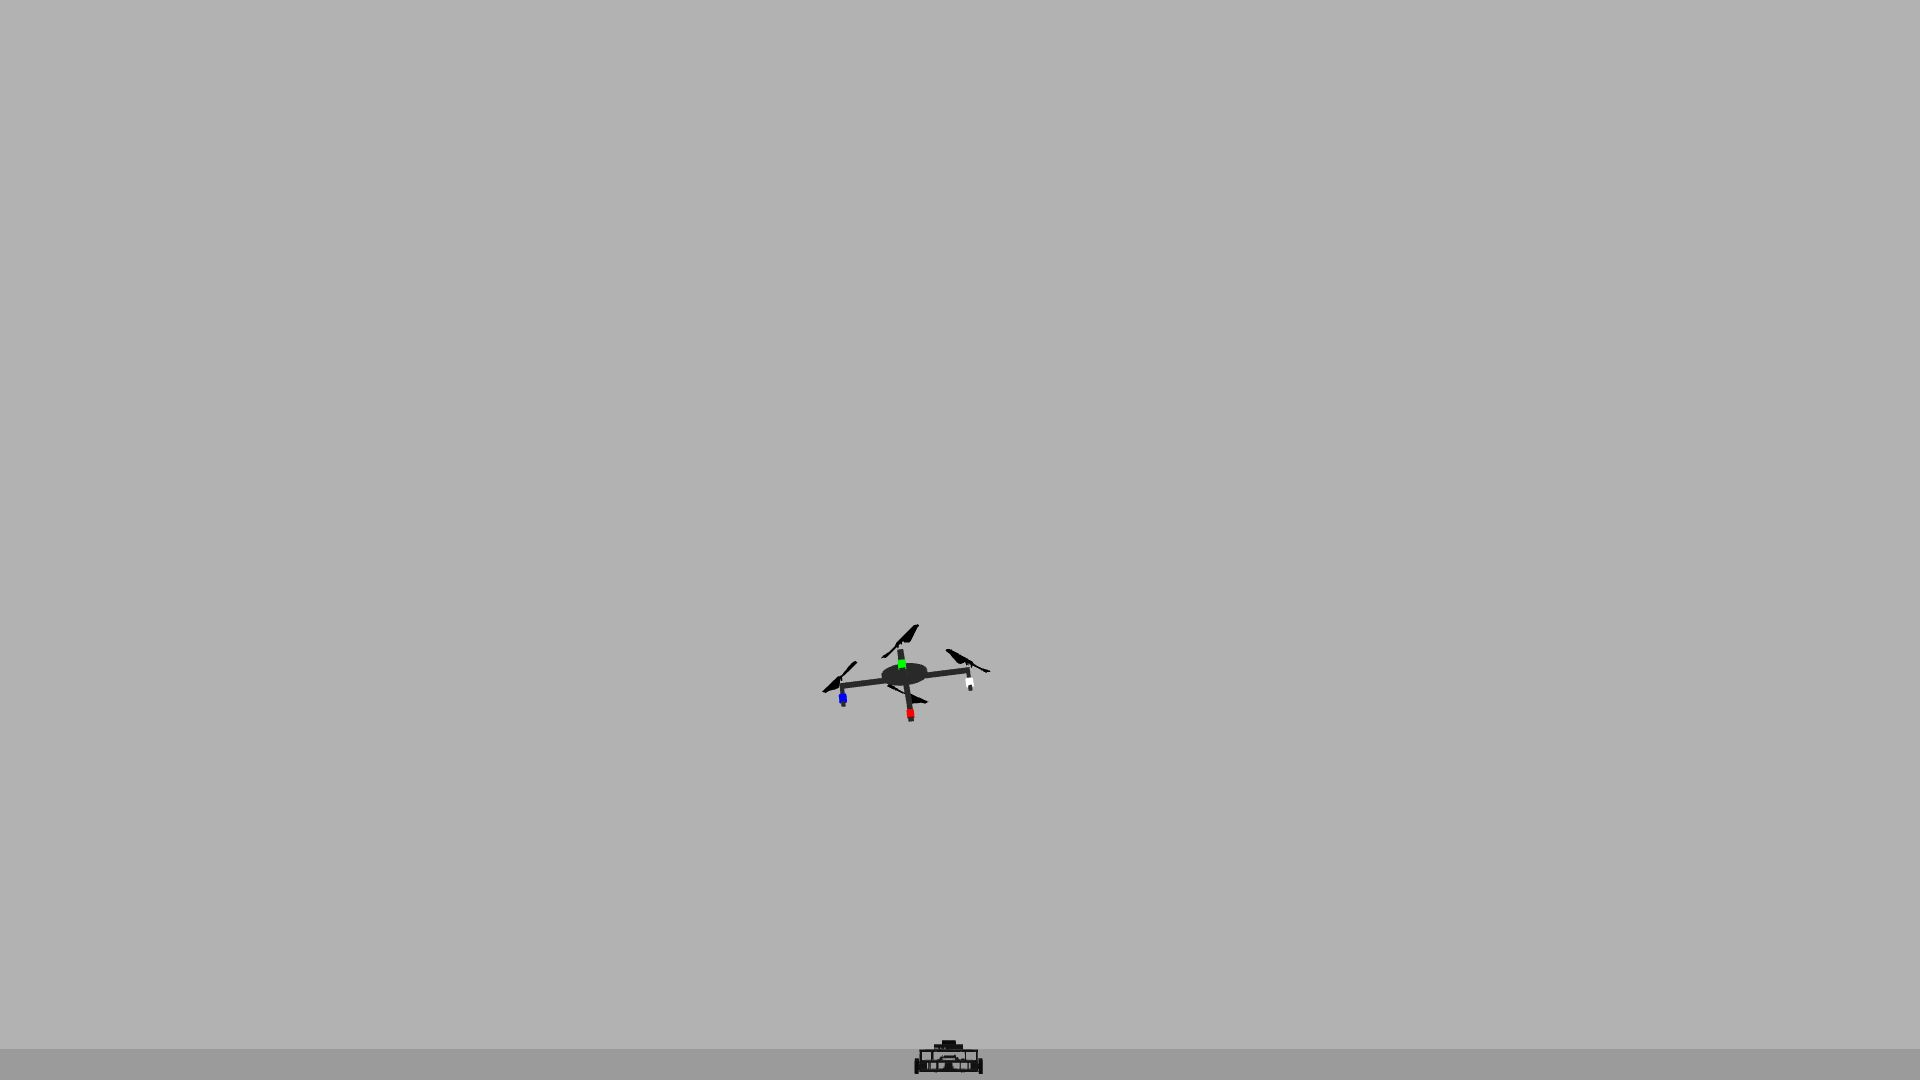drone: (814, 611, 998, 738)
